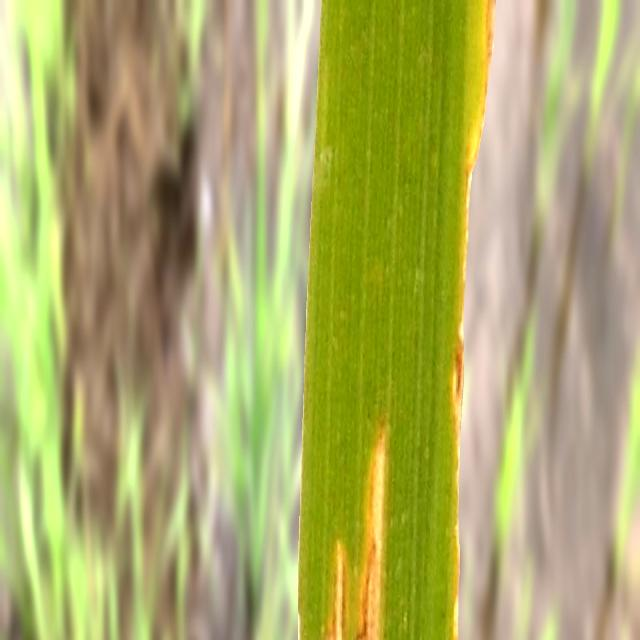BLS: (355, 428, 386, 640), (356, 428, 386, 640), (324, 542, 346, 640), (325, 542, 346, 640), (325, 542, 345, 640)
